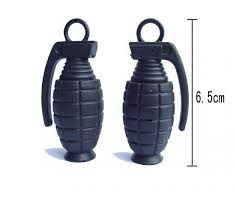e1: (123, 17, 189, 165), (41, 16, 104, 161)
